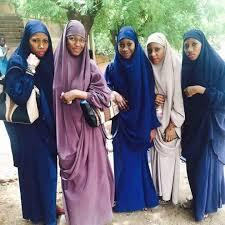No Mask: (62, 29, 94, 66), (26, 30, 54, 65), (181, 35, 210, 68), (144, 39, 170, 74), (113, 35, 140, 67)
